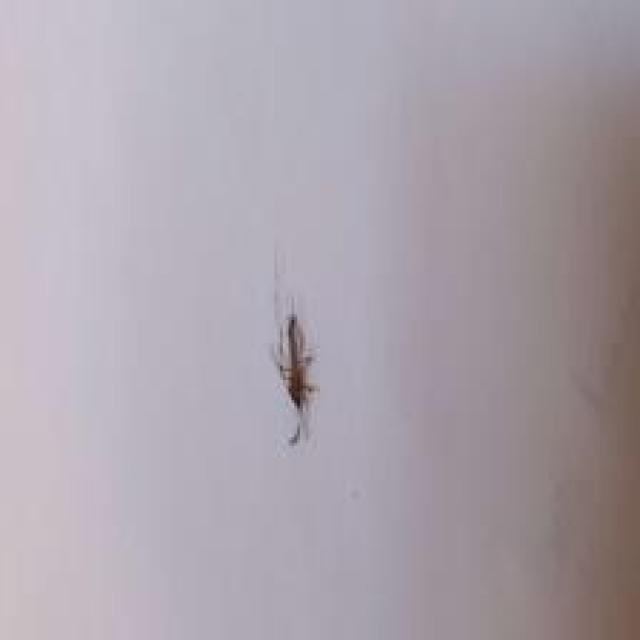Culex: (271, 299, 320, 447)
